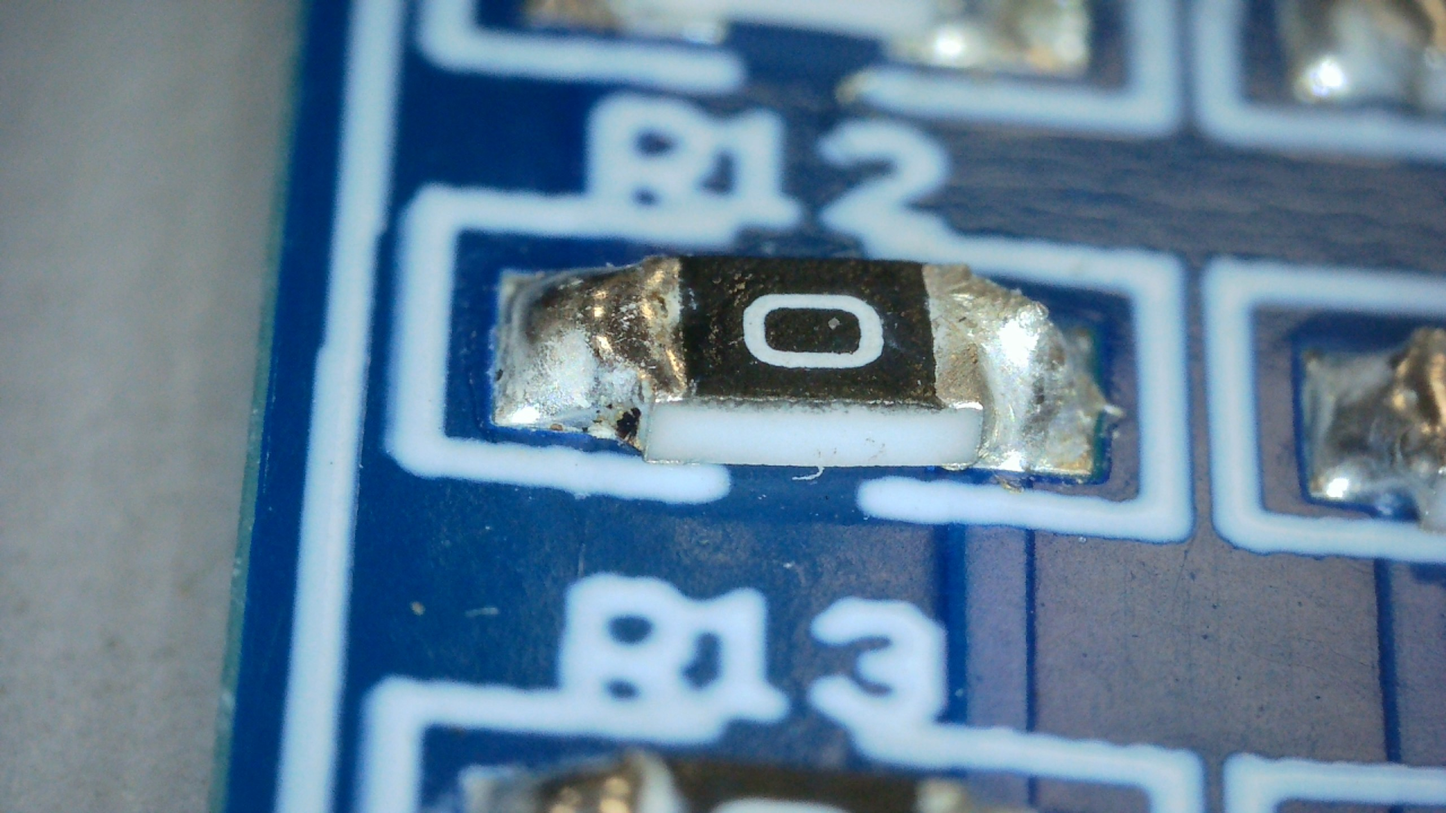NG: (925, 263, 1096, 462), (496, 254, 685, 431)
